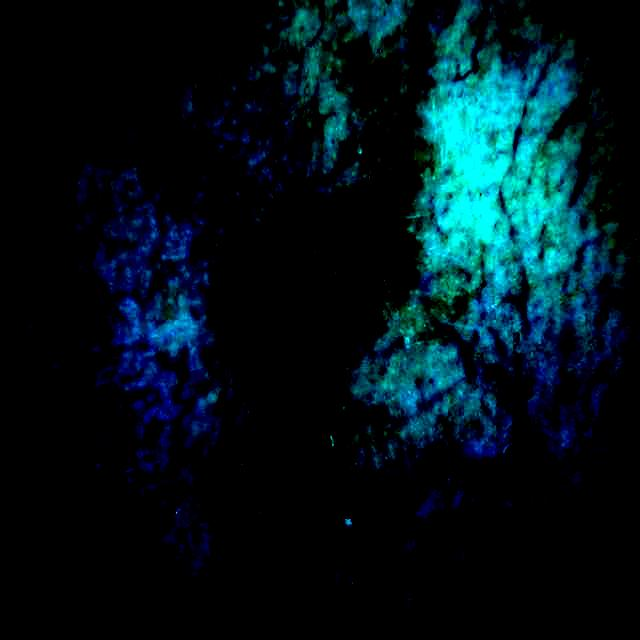BKL: (188, 154, 448, 540)
